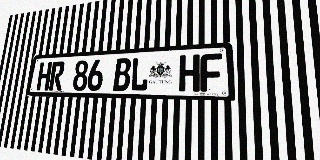6: (87, 59, 104, 91)
8: (72, 60, 89, 91)
B: (113, 58, 131, 91)
F: (200, 53, 223, 92)
H: (179, 54, 200, 92), (36, 62, 52, 90)
L: (130, 57, 149, 91)
R: (49, 61, 65, 91)
